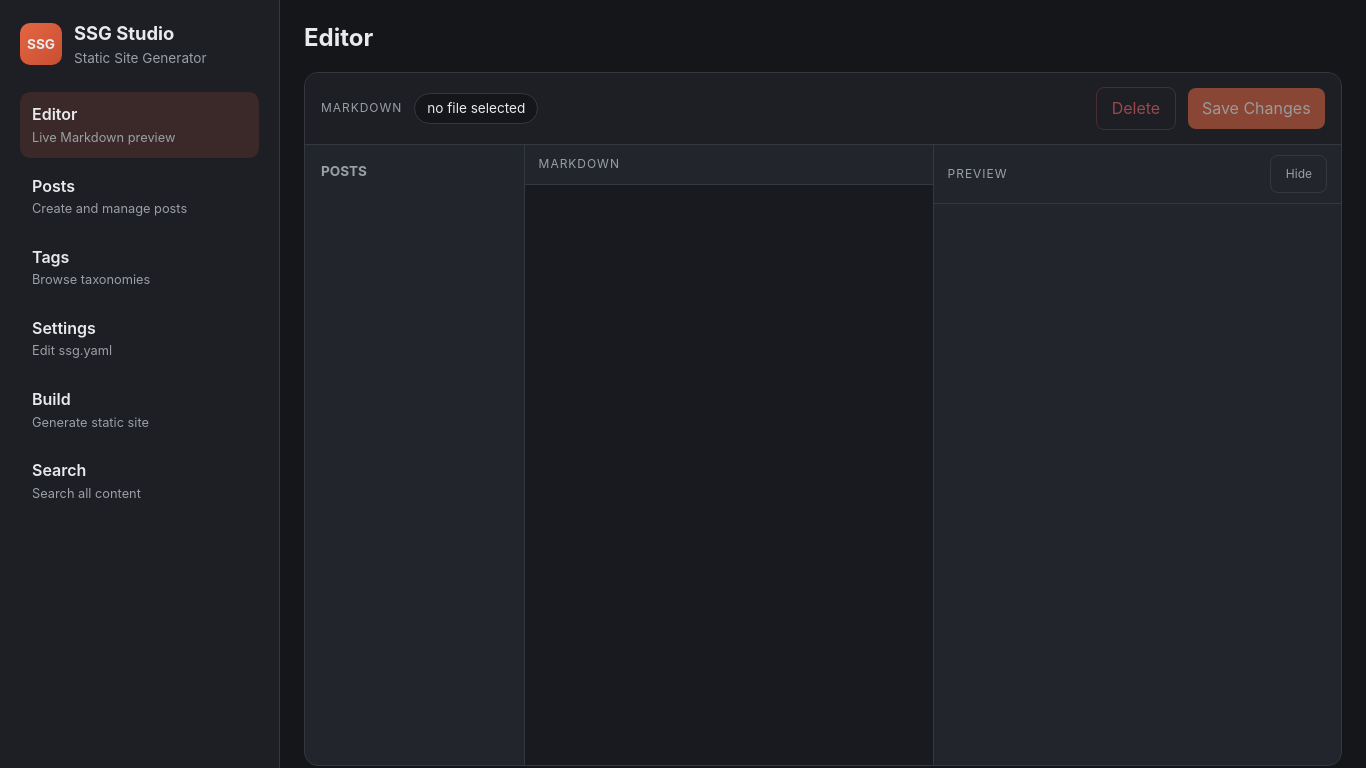
App › switches to posts manager view
This screenshot has width=1366, height=768.
Click the button "Posts Create and manage posts" at (140, 196), box x1=20 y1=163 x2=259 y2=229
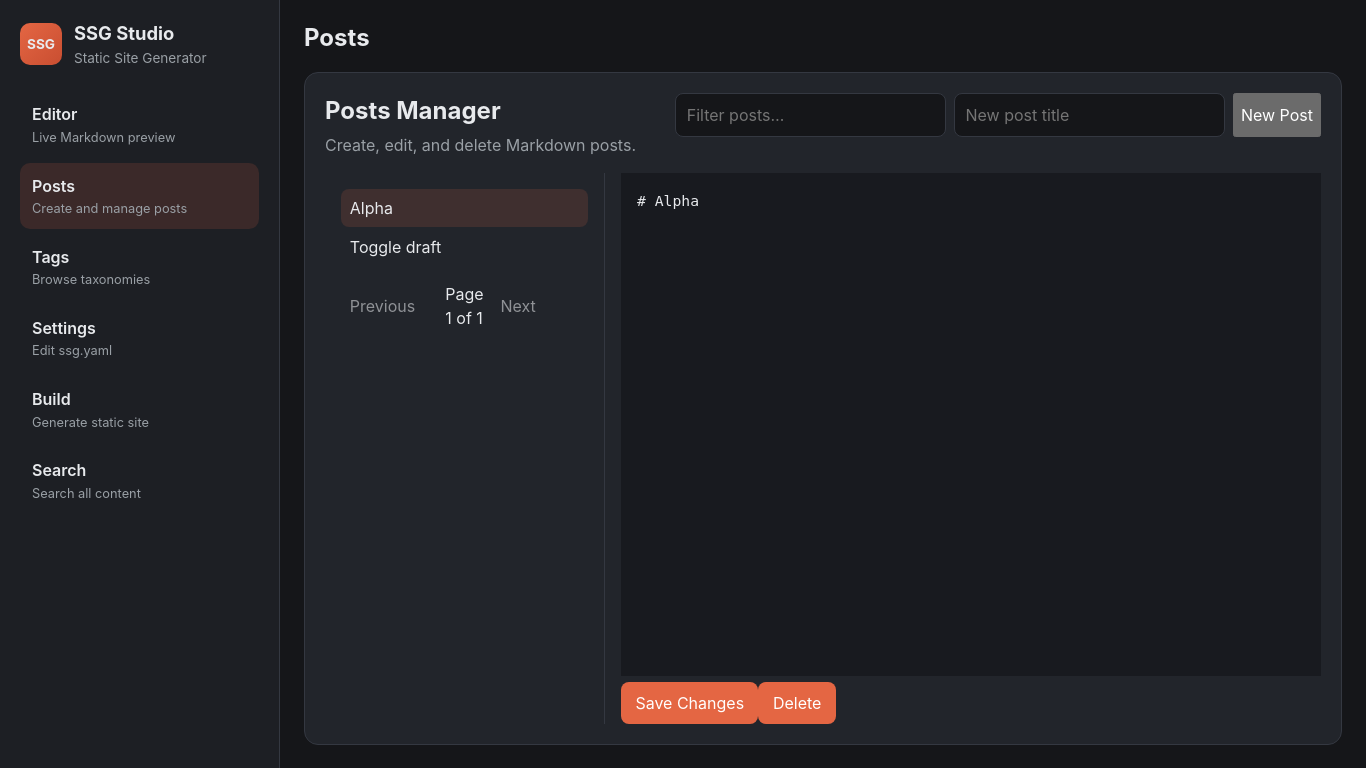
Result: the element with test id "posts-manager" is shown
